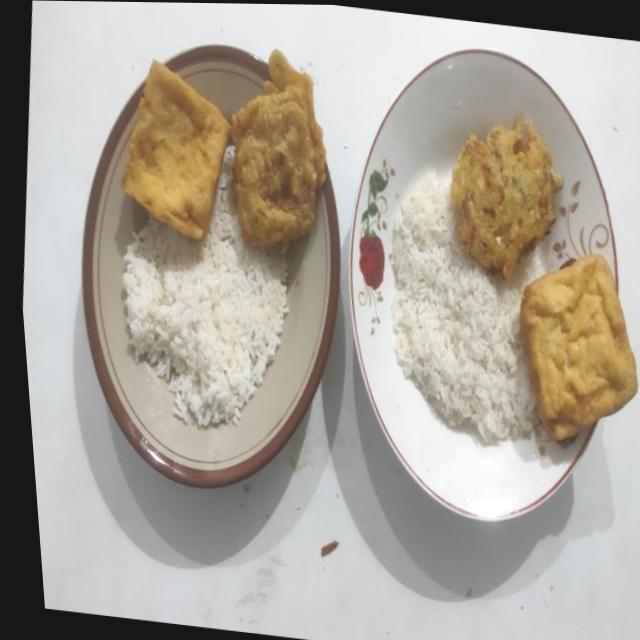nasi_putih: (122, 146, 288, 426), (391, 176, 544, 442)
tahu_goreng: (520, 254, 637, 440), (122, 62, 230, 238)
